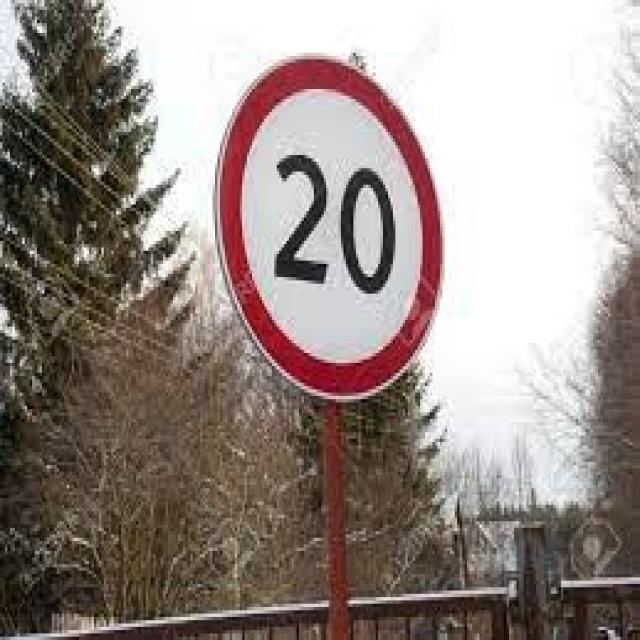speed_limit_20: (208, 48, 456, 403)
